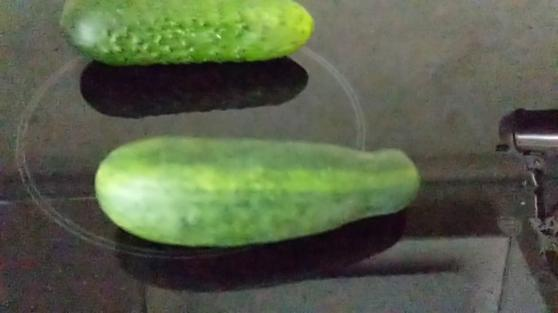cucumber: (90, 137, 422, 249), (55, 1, 313, 66)
